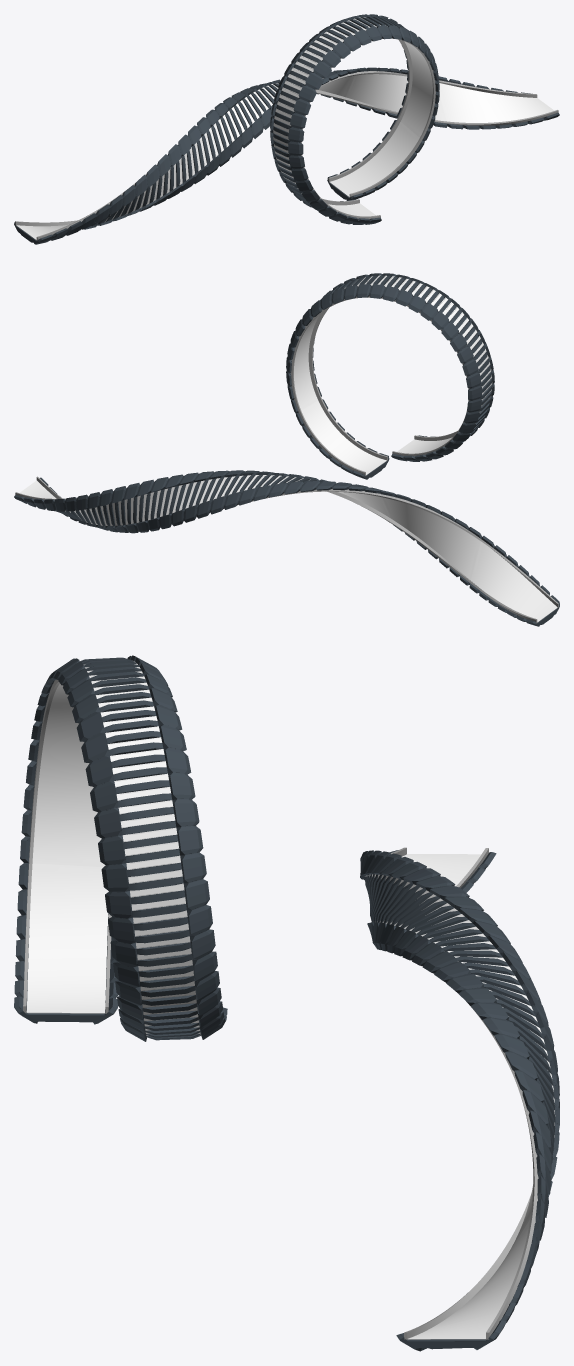
Rendered from Loops.fbx.
3 views of the same model, one above another, from view 1: azimuth 30°, elevation 25°; view 2: azimuth 150°, elevation 25°; view 3: azimuth 270°, elevation 25° (orthographic). The views are drawn at different scales.
Parts seen in each view (by area): view 1: Ground (×7), Track18 (×2), Track17 (×2), Track19 (×2), Track20 (×2), Rail (×6), Track16 (×2), Track21 (×2); view 2: Ground (×6), Track19 (×2), Track20 (×2), Rail (×5), Track18 (×2), Track21 (×2), Track16 (×2), Track17 (×2); view 3: Ground (×4), Track18 (×2), Track17 (×2), Track19 (×2), Track20 (×2), Track21 (×2), Track16, Rail (×3).
Boxes of the visible parts, bbox=[...] form: Ground (×7): bbox=[16, 42, 554, 239]; Track18 (×2): bbox=[206, 14, 431, 166]; Track17 (×2): bbox=[127, 46, 439, 215]; Track19 (×2): bbox=[271, 19, 371, 102]; Track20 (×2): bbox=[270, 67, 447, 192]; Rail (×6): bbox=[15, 41, 558, 240]; Track16 (×2): bbox=[14, 120, 424, 244]; Track21 (×2): bbox=[285, 76, 559, 224]; Ground (×6): bbox=[294, 314, 557, 622]; Track19 (×2): bbox=[171, 274, 478, 526]; Track20 (×2): bbox=[87, 330, 494, 533]; Rail (×5): bbox=[269, 312, 558, 623]; Track18 (×2): bbox=[268, 273, 396, 522]; Track21 (×2): bbox=[14, 418, 484, 527]; Track16 (×2): bbox=[296, 399, 559, 626]; Track17 (×2): bbox=[286, 319, 482, 585]; Ground (×4): bbox=[26, 704, 530, 1339]; Track18 (×2): bbox=[67, 674, 522, 966]; Track17 (×2): bbox=[98, 826, 426, 1005]; Track19 (×2): bbox=[37, 655, 559, 1109]; Track20 (×2): bbox=[20, 705, 559, 1217]; Track21 (×2): bbox=[14, 863, 544, 1351]; Track16: bbox=[117, 987, 227, 1041]; Rail (×3): bbox=[23, 863, 538, 1339].
Size of the model in its own units: 822 by 340 by 391.
3 materials, 2 textured.
